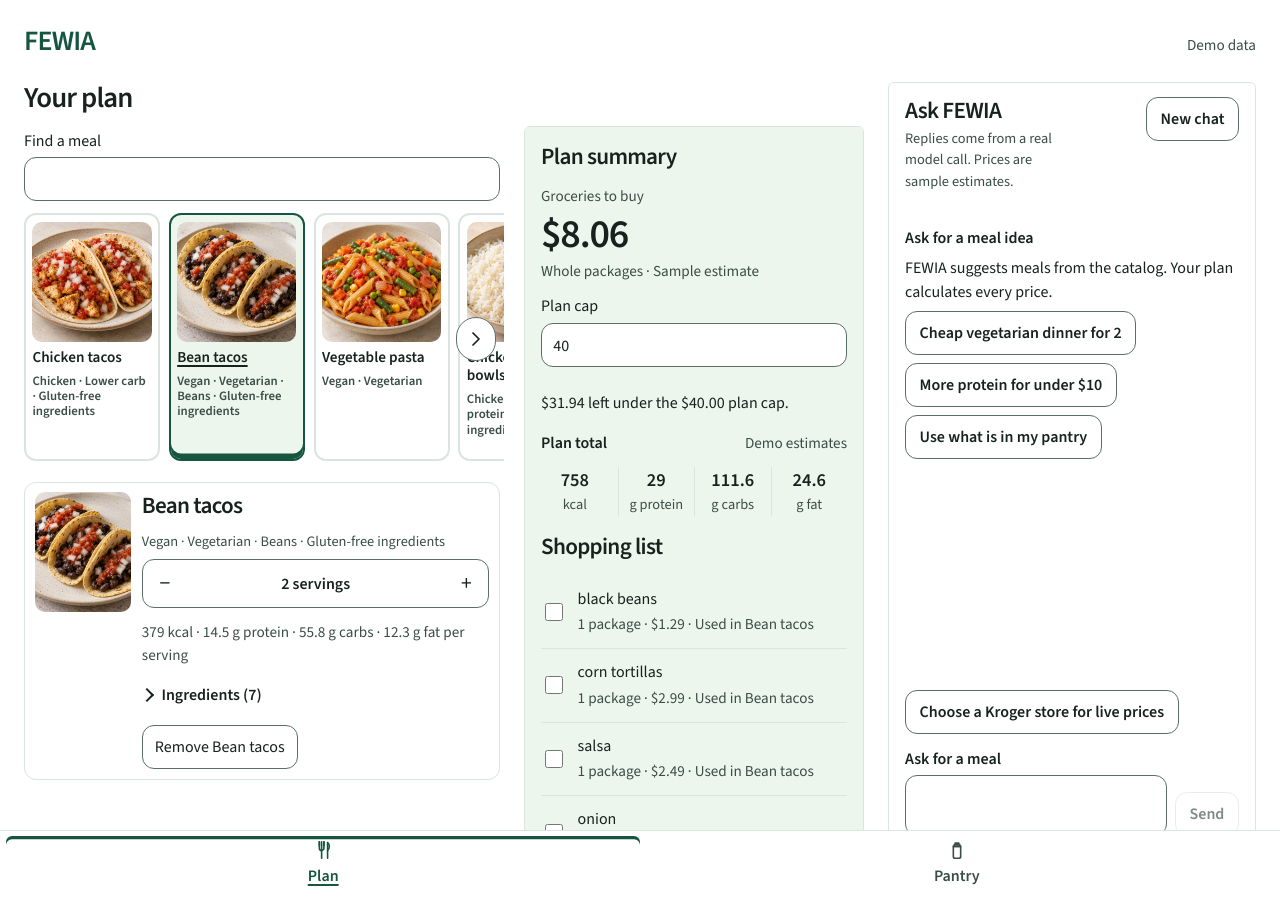
Test: TonightPrototype › reads $0.00 left when the cost equals the cap
The width and height of the screenshot is (1280, 900).
Step 1. Replace the text in the field labelled "Plan cap" with "8.06" → {"x": 694, "y": 345}, box [541,323,847,367]
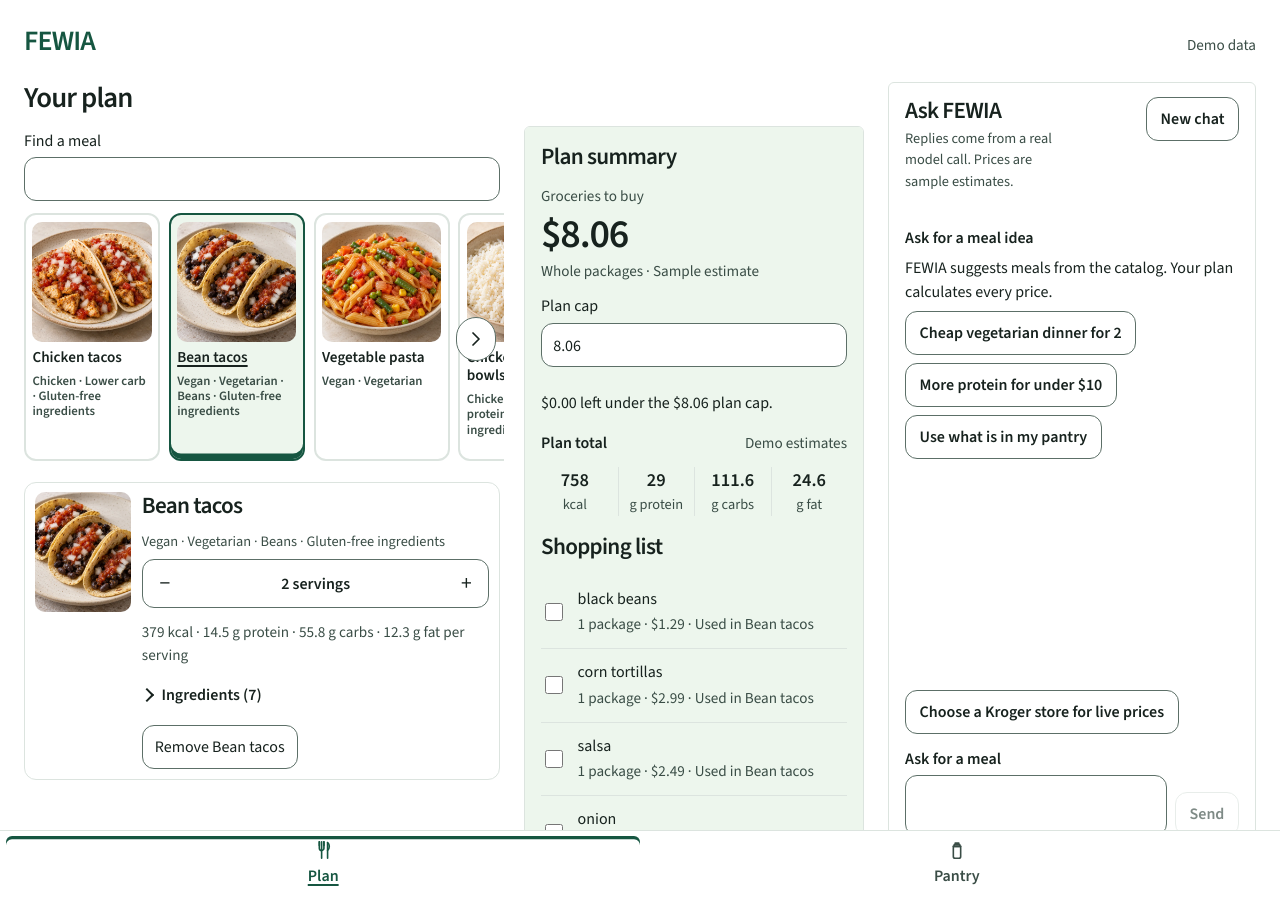
Expected: the element "Plan summary" shows "$0.00 left under the $8.06 plan cap.", [541,392,773,413]
